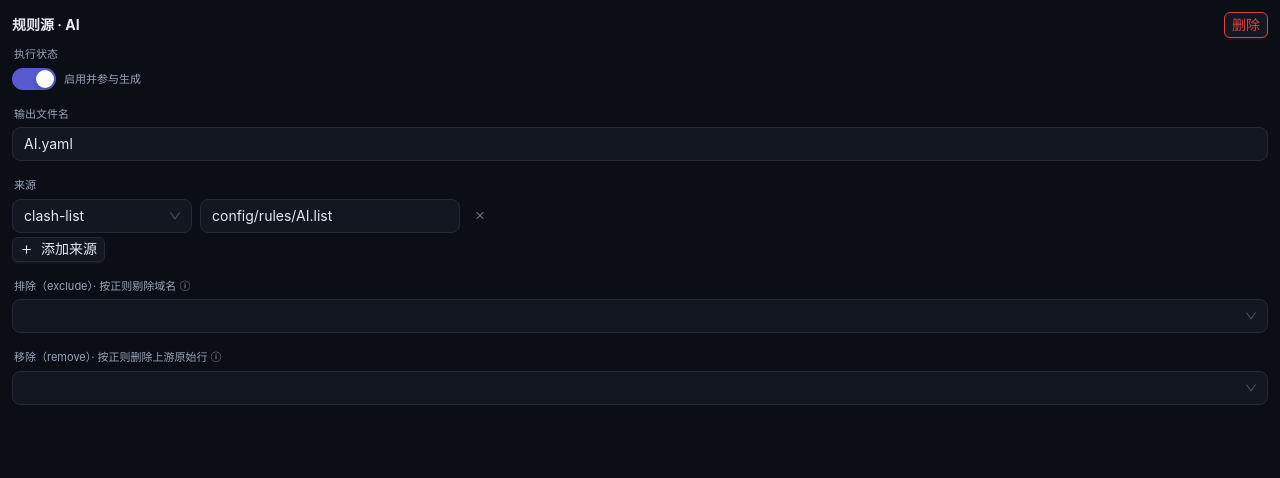
Scenario: forces disable when the last source is removed
Click the button named "删除来源 0".
click(480, 215)  # box x1=468 y1=203 x2=492 y2=227
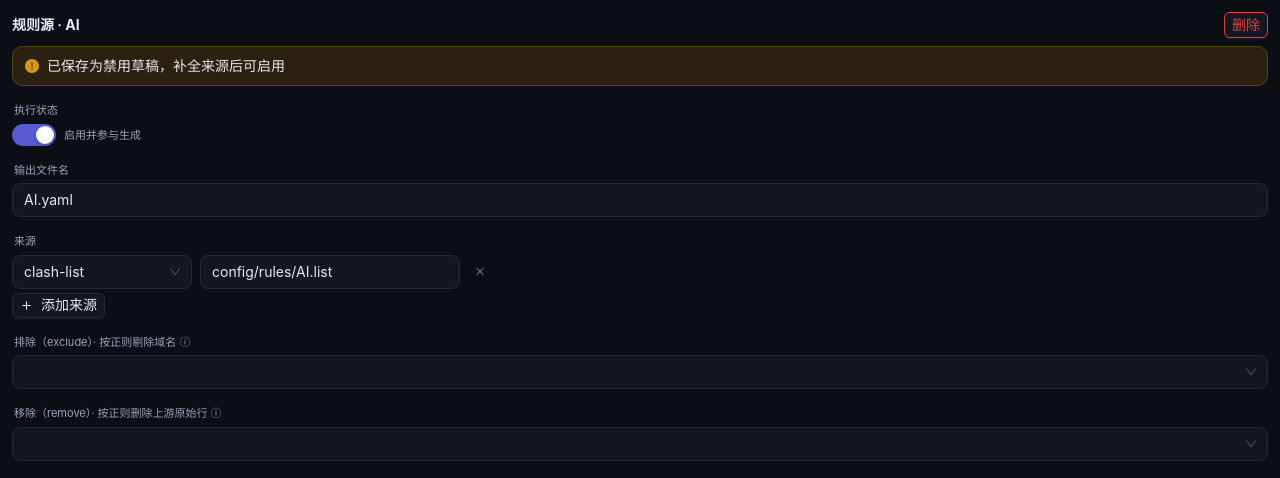
Expected: the text "已保存为禁用草稿，补全来源后可启用" is shown, x1=47 y1=56 x2=285 y2=74
